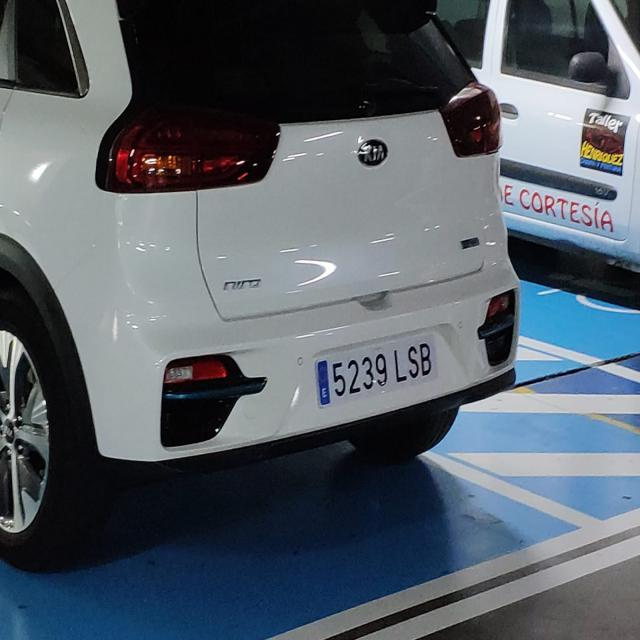License-Plate: (315, 328, 439, 412)
